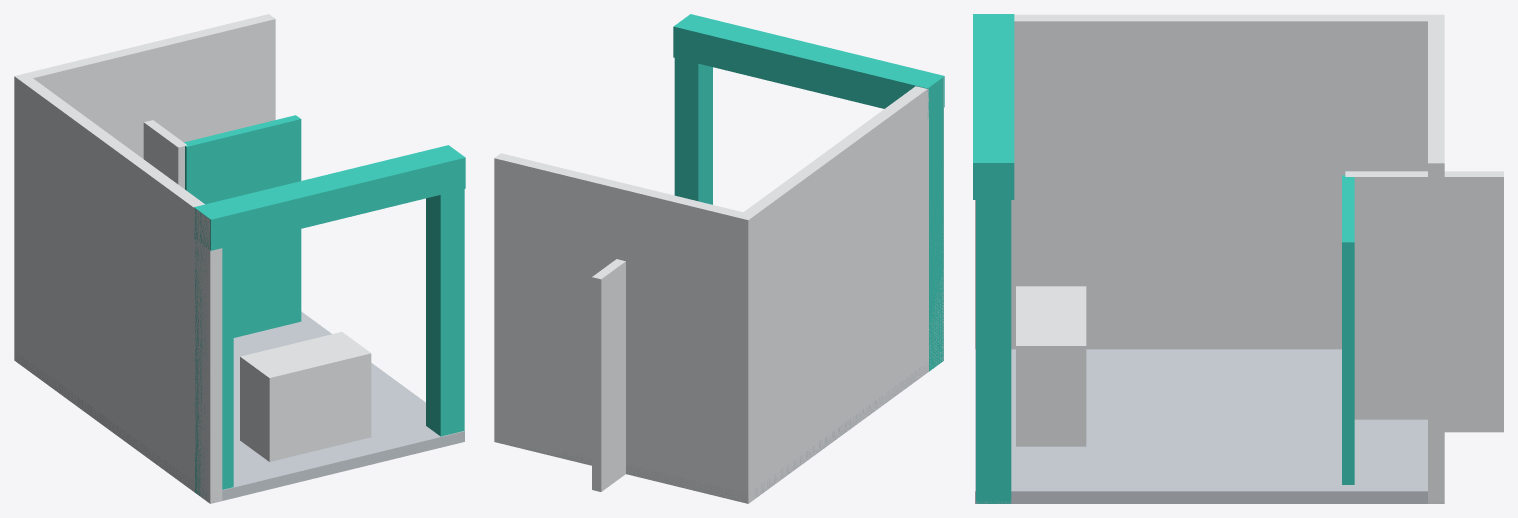
The picture shows the model from 3 angles, left to right: view 1: azimuth 30°, elevation 25°; view 2: azimuth 150°, elevation 25°; view 3: azimuth 270°, elevation 25°; orthographic projection. The views are drawn at different scales.
Visible parts, largest first — view 1: Exhibition Booth Concept; view 2: Exhibition Booth Concept; view 3: Exhibition Booth Concept.
Boxes of the visible parts, box(x1,y1,x2,y2) form: Exhibition Booth Concept: box(14, 14, 465, 503); Exhibition Booth Concept: box(494, 14, 944, 503); Exhibition Booth Concept: box(973, 14, 1503, 503).
Size of the model in its own units: 3 by 3.2 by 4.52.
